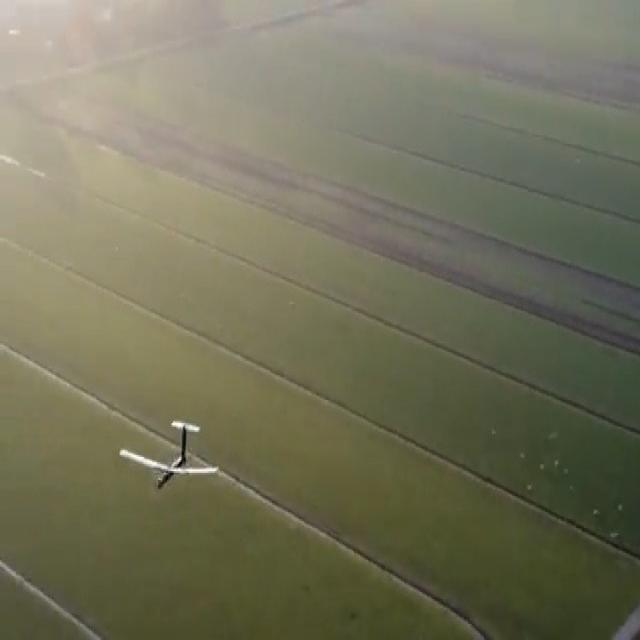drones: (116, 412, 222, 503)
